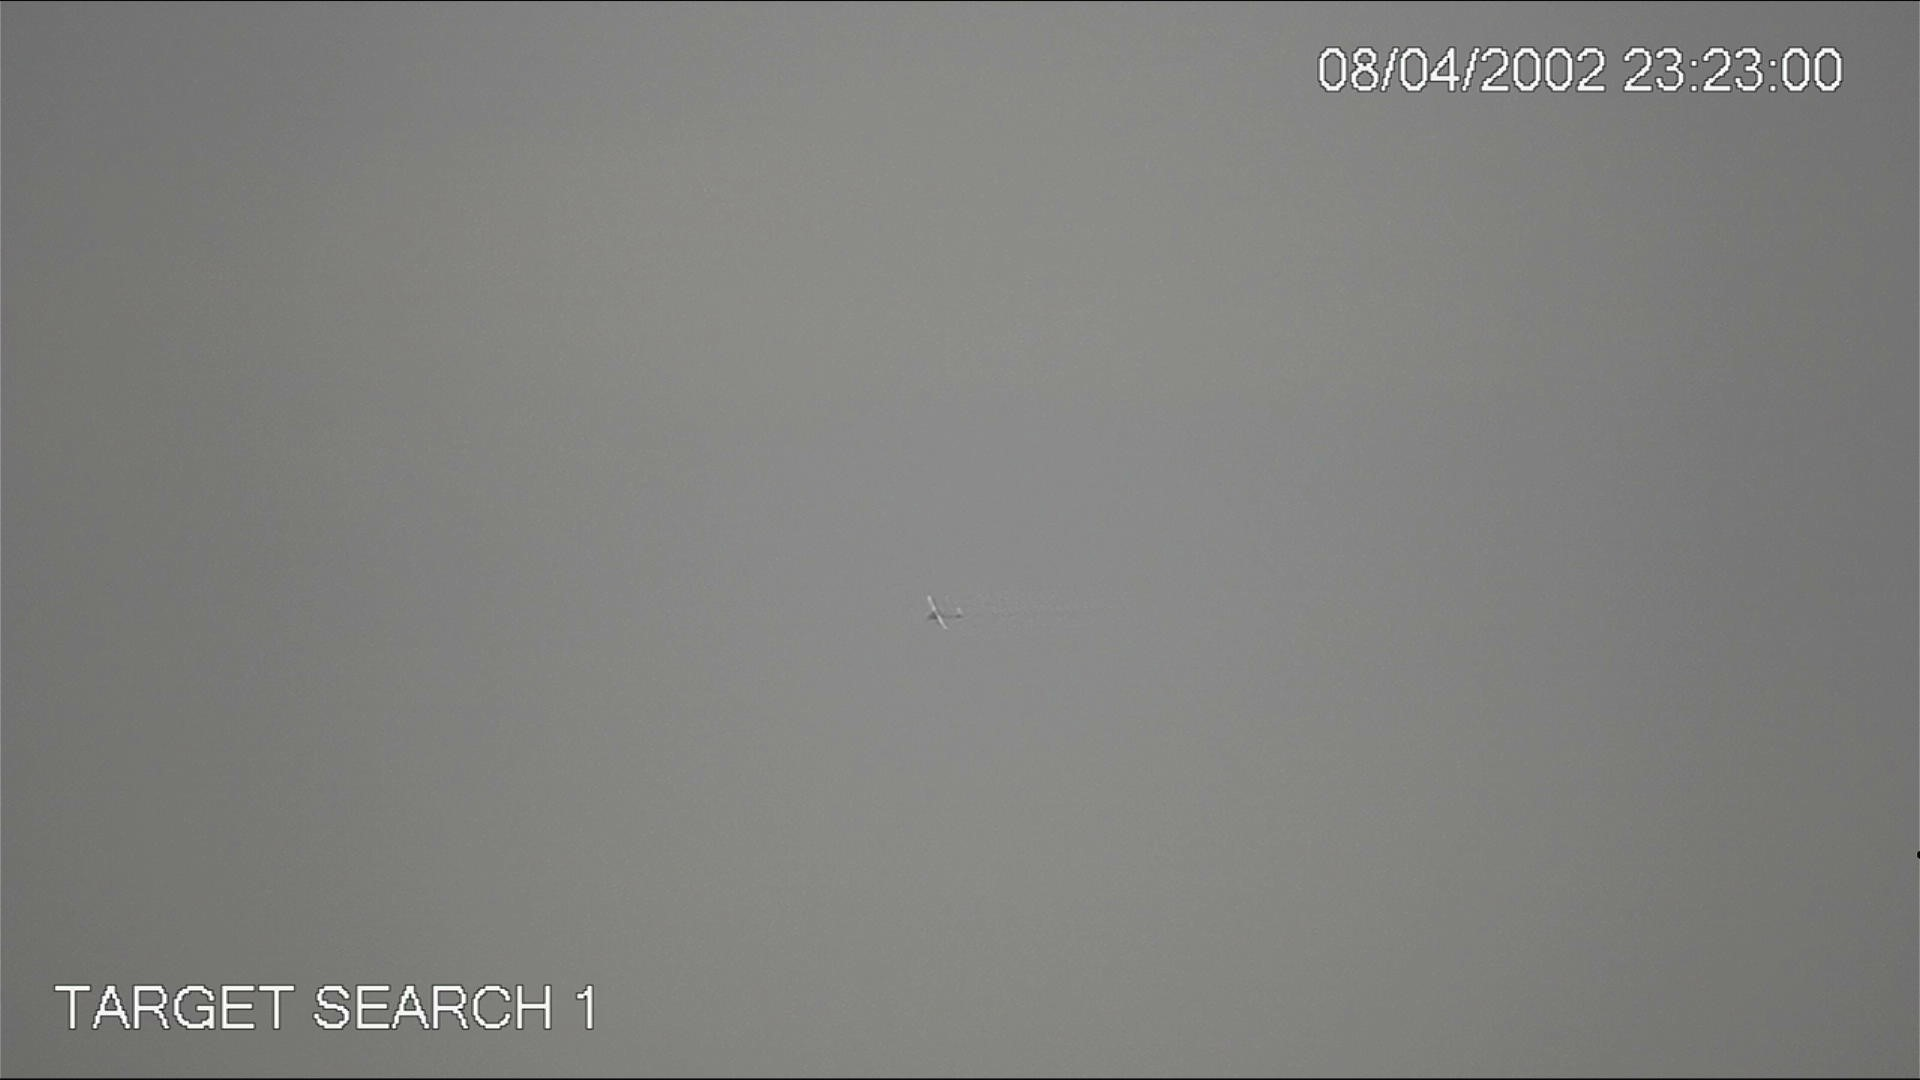SU_30: (918, 593, 967, 632)
